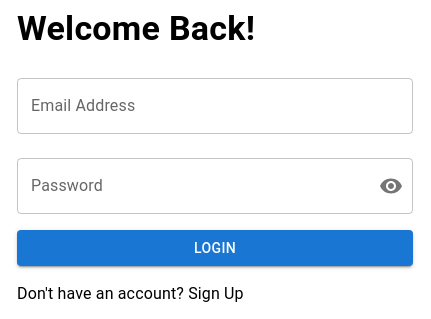
AuthPage › toggles password visibility
This screenshot has width=431, height=319.
Click the button with test id "password-visibility-toggle".
click(391, 186)  # box x1=371 y1=166 x2=411 y2=206
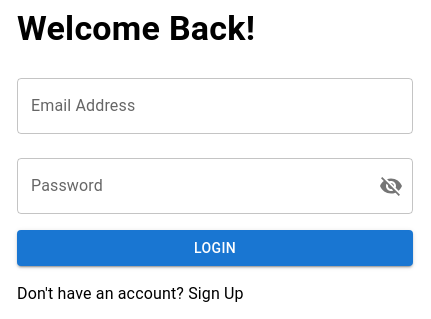
Check: the button named "Hide password" is shown, box x1=371 y1=166 x2=411 y2=206
